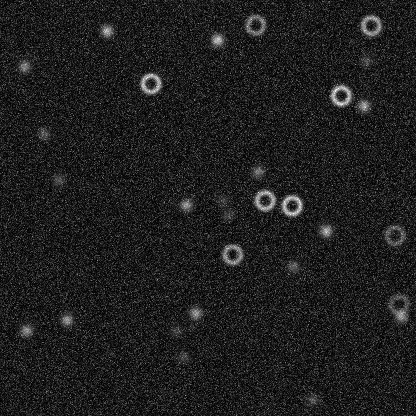Ring: (358, 13, 382, 37), (279, 193, 303, 217), (328, 83, 352, 107), (138, 71, 162, 95), (382, 223, 406, 247), (386, 292, 410, 316), (252, 188, 276, 212), (243, 12, 267, 36), (220, 242, 244, 266)
Spot: (35, 125, 51, 141), (175, 349, 191, 365), (219, 206, 235, 222), (98, 22, 114, 38), (355, 97, 371, 113), (285, 258, 301, 274), (16, 58, 32, 74), (249, 163, 265, 179), (392, 308, 408, 324), (58, 311, 74, 327), (209, 31, 225, 47), (357, 52, 373, 68), (50, 171, 66, 187), (304, 391, 320, 407), (18, 322, 34, 338), (167, 322, 183, 338), (317, 222, 333, 238), (187, 305, 203, 321), (215, 191, 231, 207), (177, 196, 193, 212)
